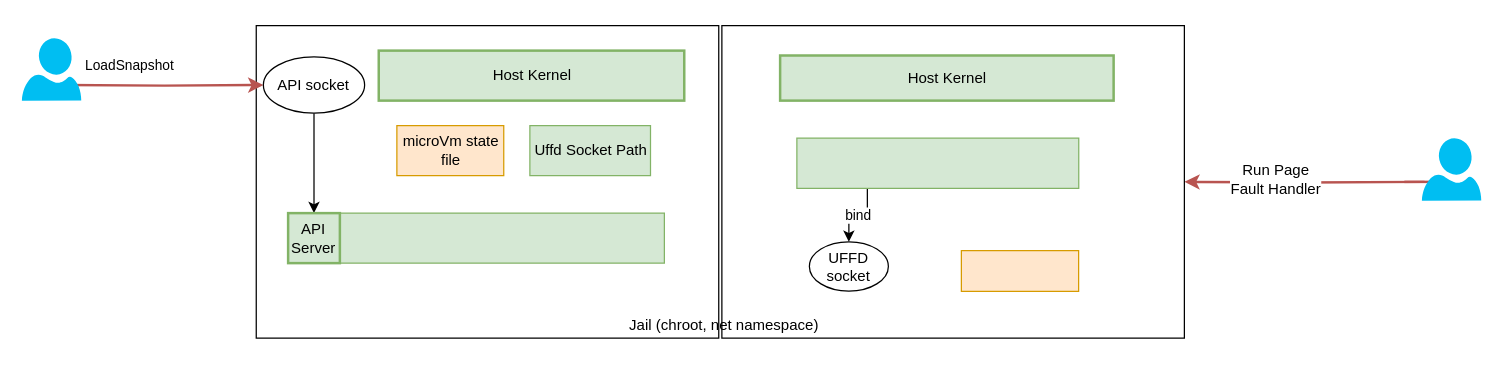
The diagram is 1503 pixels wide and 370 high, and some of its shapes have lost their labels. Here are the shapes that lost their labels. From the top down, the box of each, then its label:
(796, 137, 1079, 188): Page Fault Handler
(287, 212, 664, 263): Firecracker VMM
(960, 249, 1079, 291): memory state file
